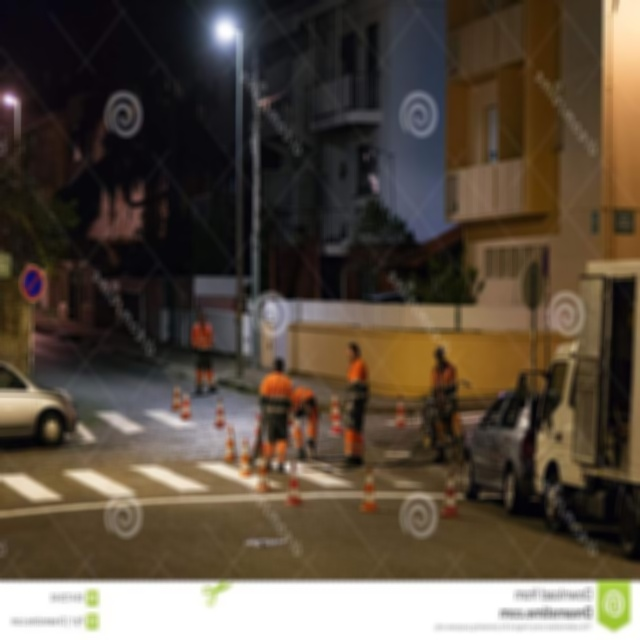Con_Chaleco: (264, 373, 291, 423), (346, 361, 369, 411)
Sin_Casco_Mascarrilla: (346, 343, 361, 361), (273, 358, 286, 374)
